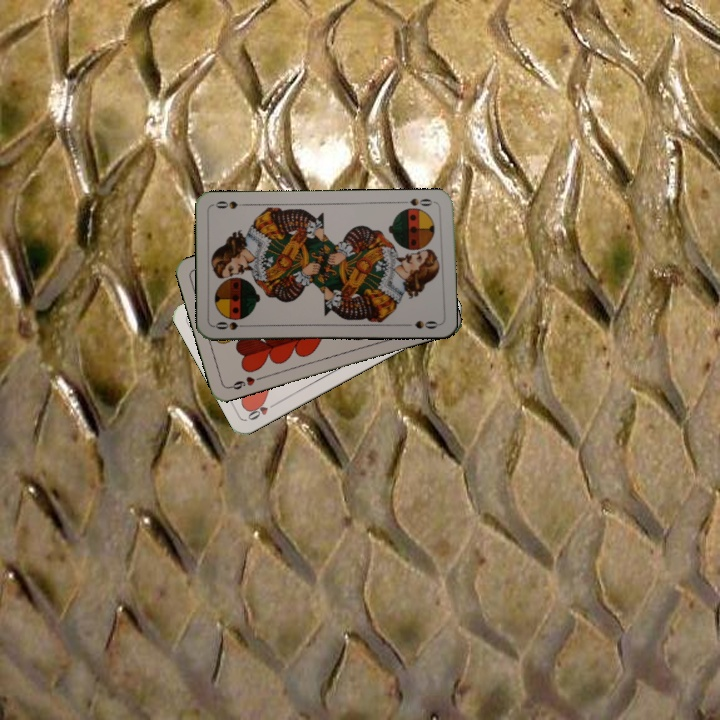H9: (225, 372, 265, 392)
HO: (243, 398, 281, 423)
SO: (211, 318, 252, 333), (399, 194, 439, 209)
